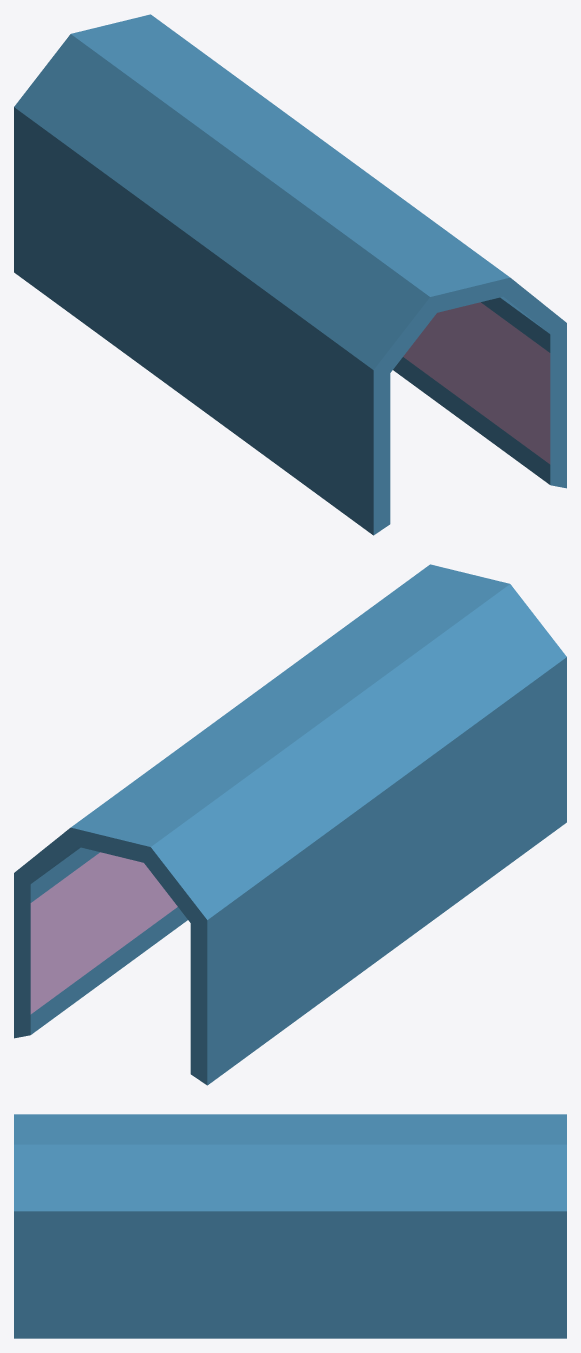
The model's file is HallwayStraigheUVed.fbx.
3 views of the same model, one above another, from view 1: azimuth 30°, elevation 25°; view 2: azimuth 150°, elevation 25°; view 3: azimuth 270°, elevation 25° (orthographic). The views are drawn at different scales.
Visible parts, largest first — view 1: BasicHallwayF; view 2: BasicHallwayF; view 3: BasicHallwayF.
Part boxes in pixels (left/top/right/bottom): BasicHallwayF: left=14, top=14, right=566, bottom=535; BasicHallwayF: left=14, top=564, right=566, bottom=1085; BasicHallwayF: left=14, top=1114, right=566, bottom=1338.
Bounding box in the file's own units: 1014 × 1125 × 3264.
